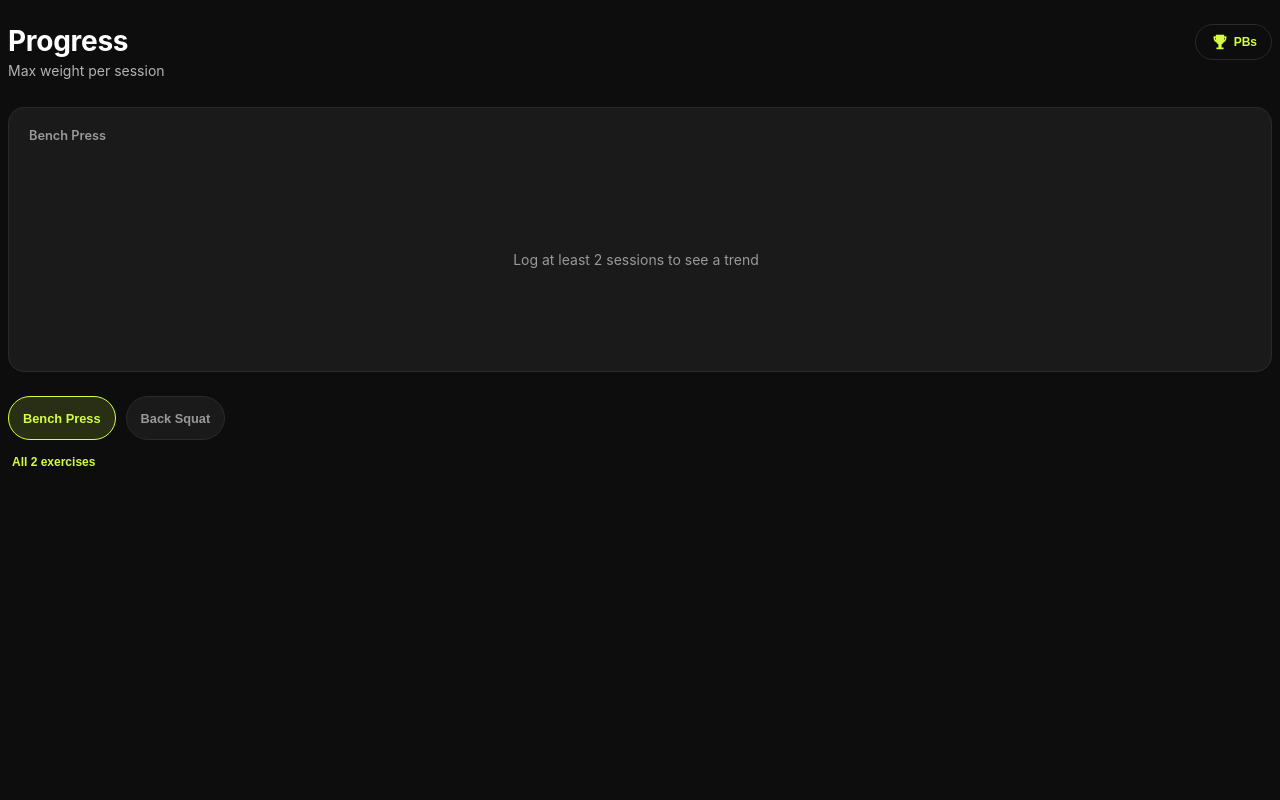
Test: Progress page › shows the picker as one scrolling row, and "All N exercises" expands it to a wrapping list
Click the button "All 2 exercises". click: (54,462)
box: [8, 440, 99, 484]
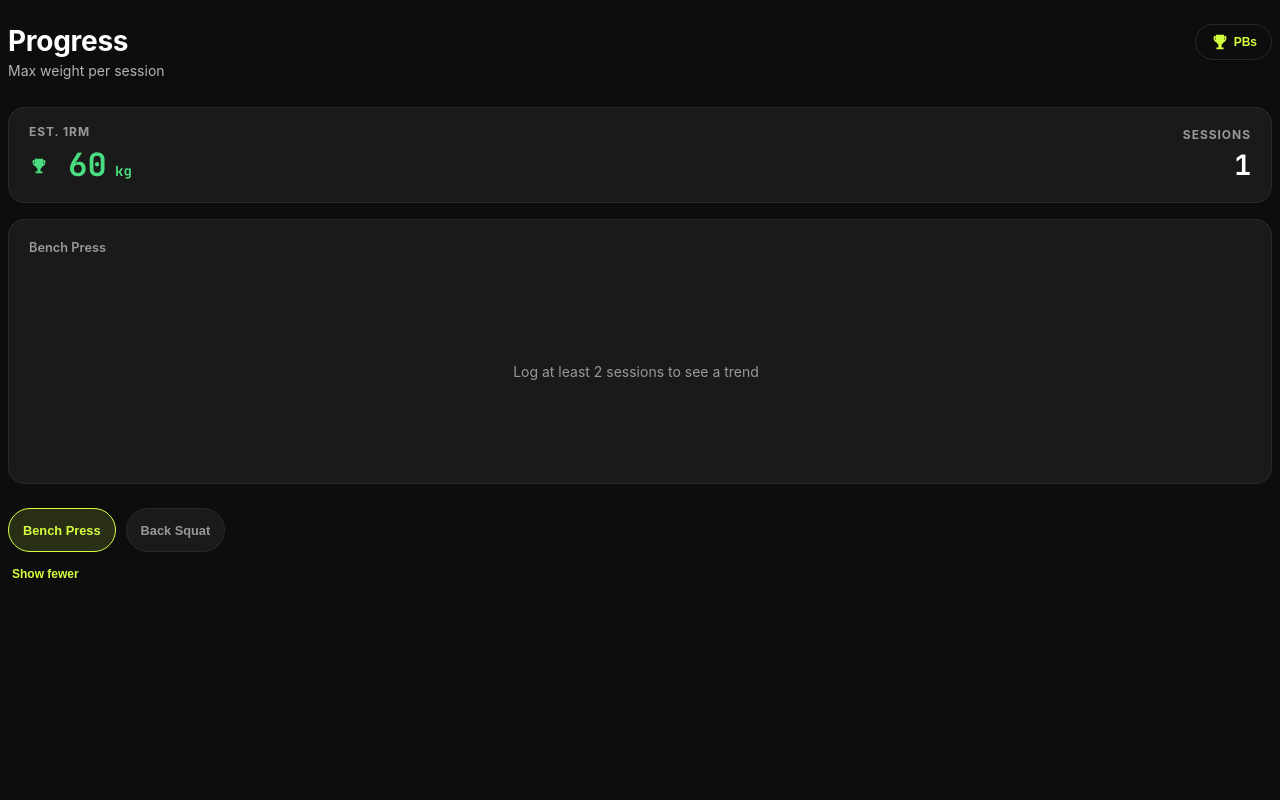
Expected: the button "Show fewer" is shown, [8, 552, 83, 596]
